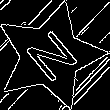N_SE: (17, 24, 83, 88)
